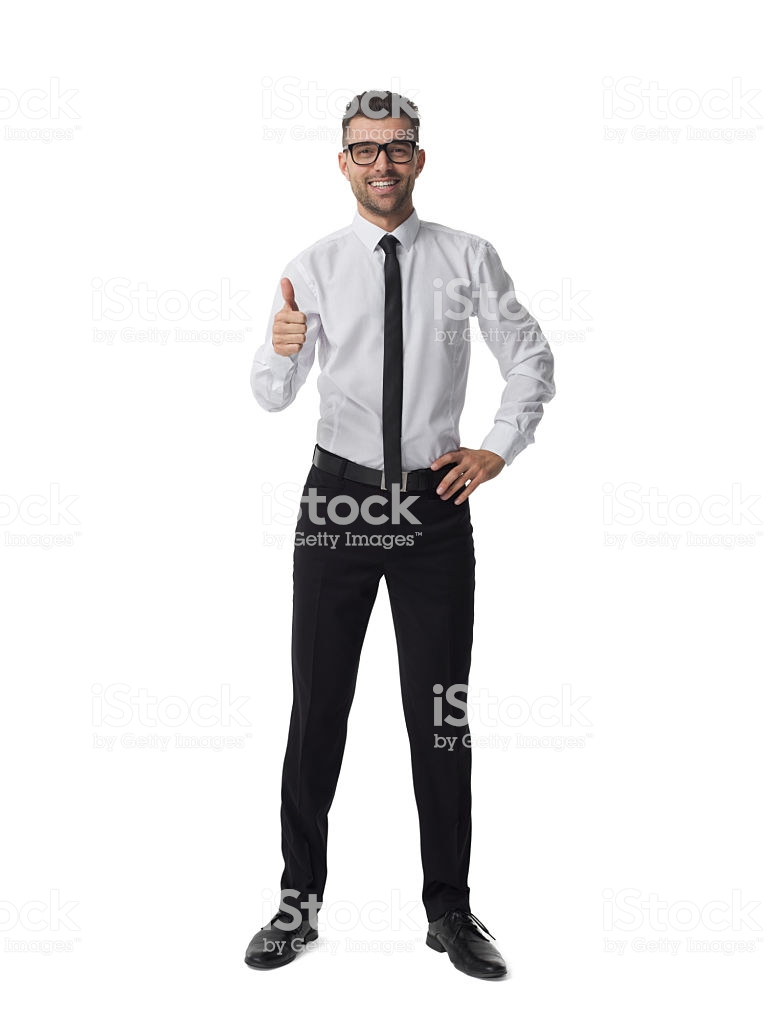thumbsup: (270, 277, 307, 357)
